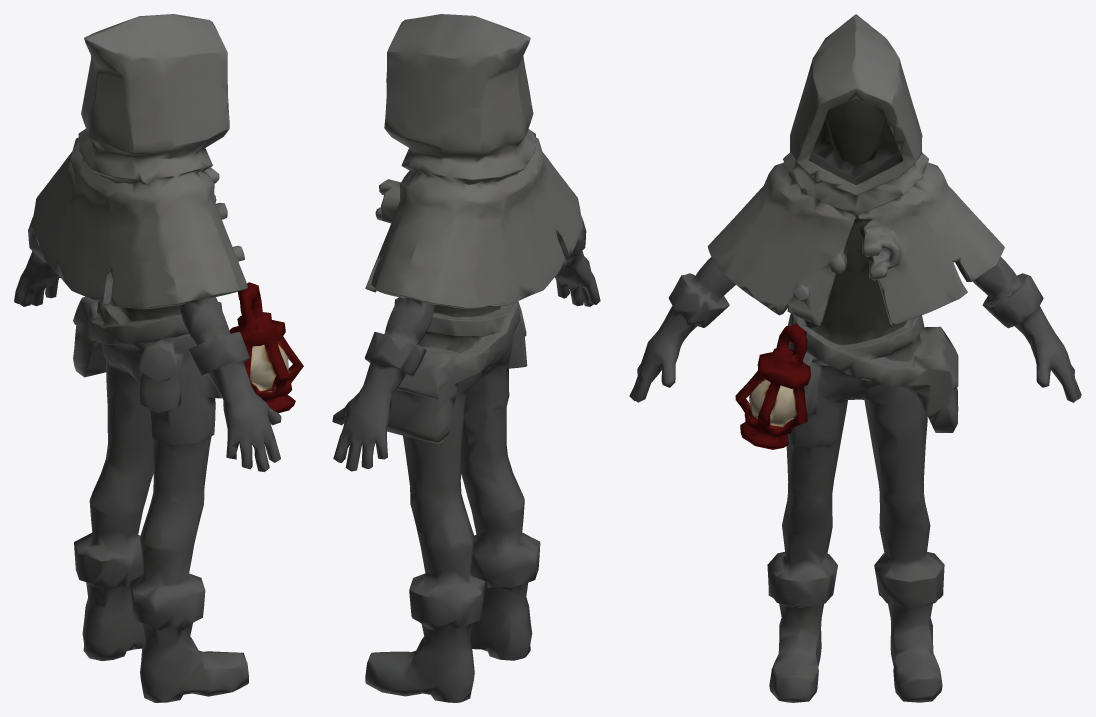
The model's file is oyuncu.glb.
3 views of the same model, side by side, from view 1: azimuth 30°, elevation 25°; view 2: azimuth 150°, elevation 25°; view 3: azimuth 270°, elevation 25° (orthographic). The views are drawn at different scales.
Visible parts, largest first — view 1: tripo_node_a02d4fb7-9264-4672-8d81-2ebe647ddad8; view 2: tripo_node_a02d4fb7-9264-4672-8d81-2ebe647ddad8; view 3: tripo_node_a02d4fb7-9264-4672-8d81-2ebe647ddad8.
Part boxes in pixels (box(x1,y1,x2,y2)): tripo_node_a02d4fb7-9264-4672-8d81-2ebe647ddad8: box(14, 14, 303, 702); tripo_node_a02d4fb7-9264-4672-8d81-2ebe647ddad8: box(332, 14, 600, 702); tripo_node_a02d4fb7-9264-4672-8d81-2ebe647ddad8: box(629, 14, 1081, 702).
Bounding box in the file's own units: 0.2946 × 1 × 0.6427.
1 material, 1 textured.
